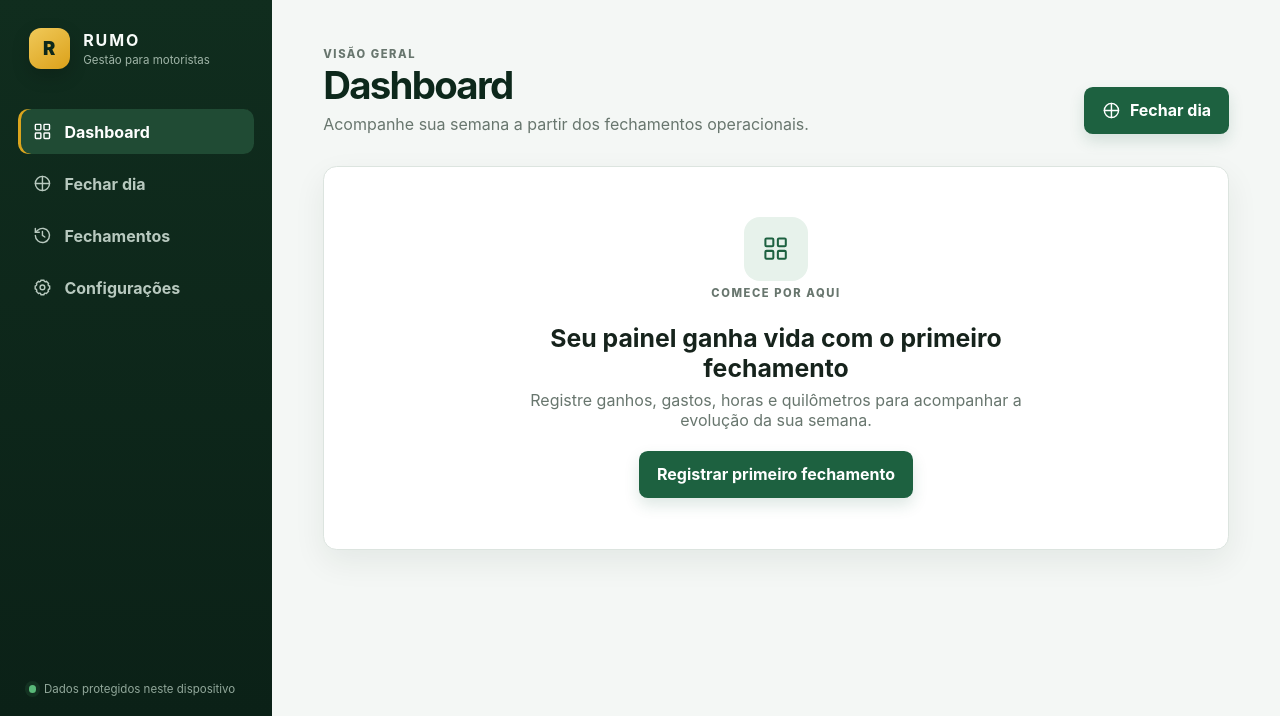
Test case: primeira vertical do aplicativo › salva, protege o envio e redireciona para a listagem com sucesso
The image size is (1280, 716).
Click the button "Fechar dia" below "Gestão para motoristas" at coordinates (136, 184), box [18,161,254,206]
(page scrolled)
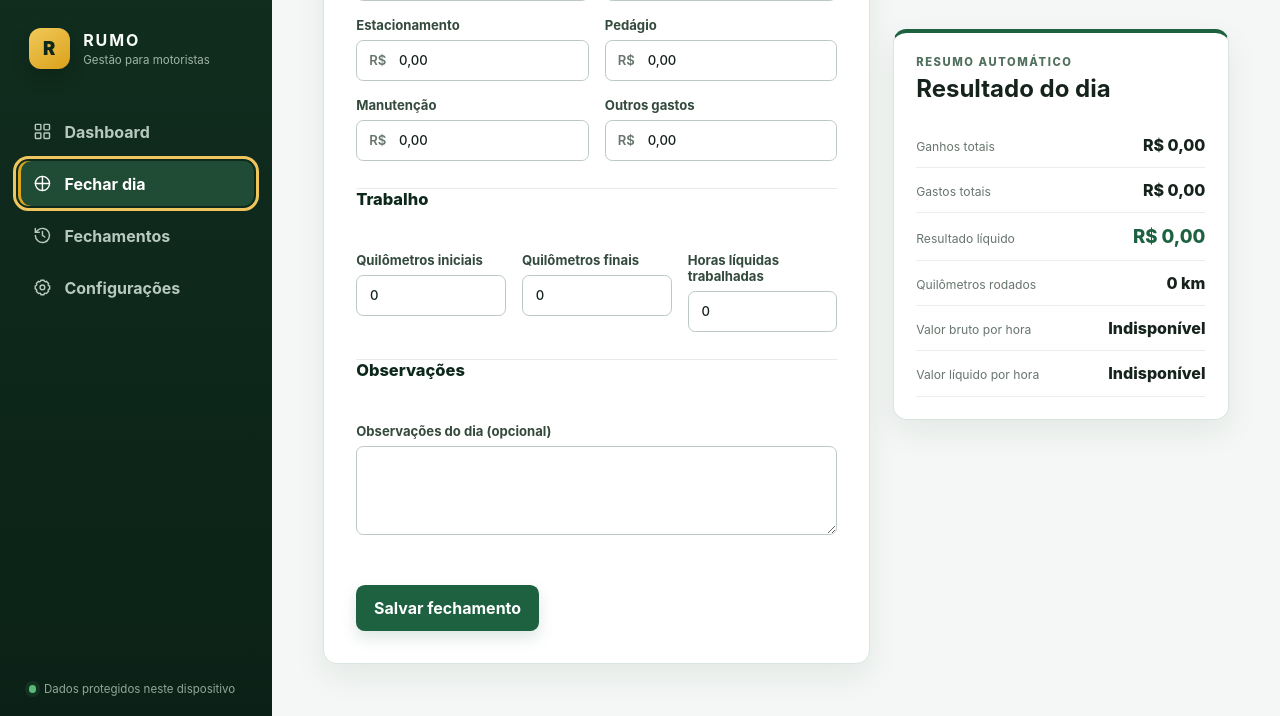
Click the button "Salvar fechamento" at coordinates (448, 608), box [356,584,539,631]
(page scrolled)
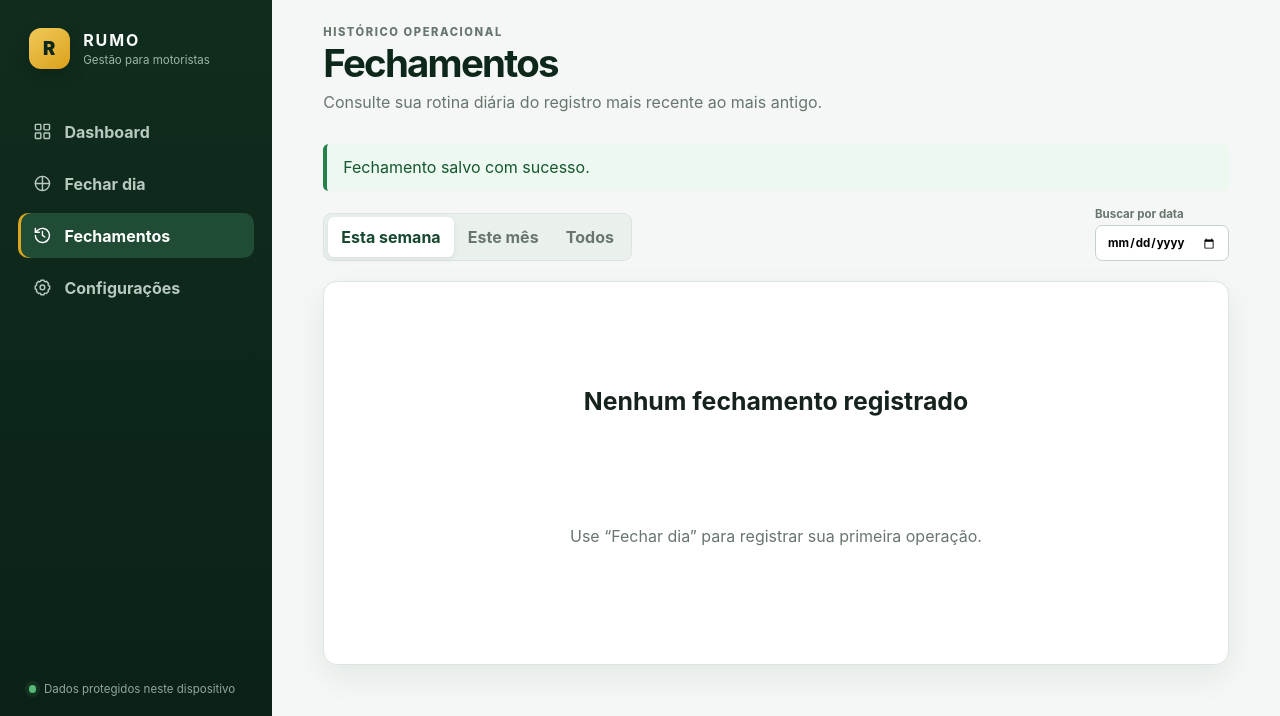
Check: the text "Fechamento salvo com sucesso." is shown, box [323,144,1229,191]
